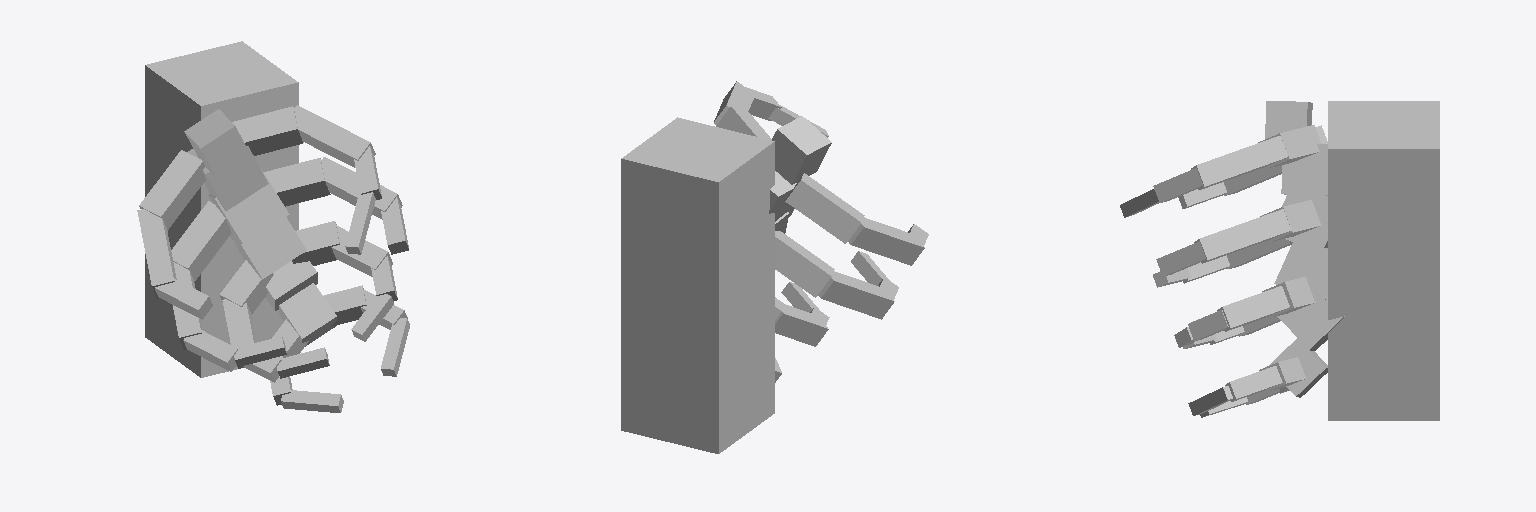
File: beam_bones_2.obj
The picture shows the model from 3 angles: view 1: azimuth 30°, elevation 25°; view 2: azimuth 150°, elevation 25°; view 3: azimuth 270°, elevation 25°; orthographic projection.
Parts seen in each view (by area): view 1: cube; view 2: cube; view 3: cube.
Part boxes in pixels (x1,y1,x2,y2): cube: (137, 41, 409, 412); cube: (621, 81, 928, 453); cube: (1120, 101, 1439, 420).
Size of the model in its own units: 1 by 1.05 by 1.07.